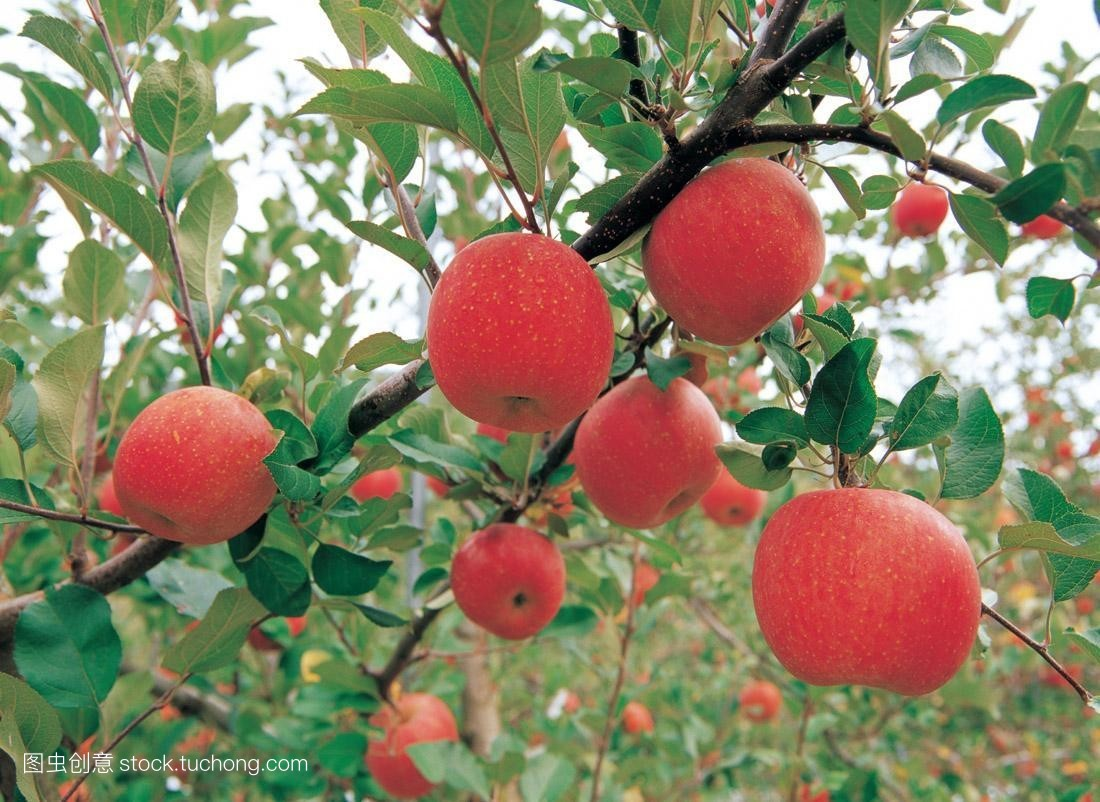apple: (752, 487, 982, 695), (428, 233, 614, 433), (643, 153, 824, 345), (114, 387, 279, 545), (572, 373, 723, 528), (453, 523, 564, 637), (895, 181, 948, 236)
